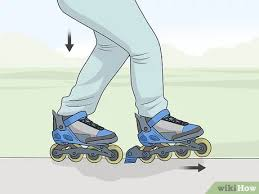roller_blade: (50, 110, 123, 165), (131, 113, 214, 159)
